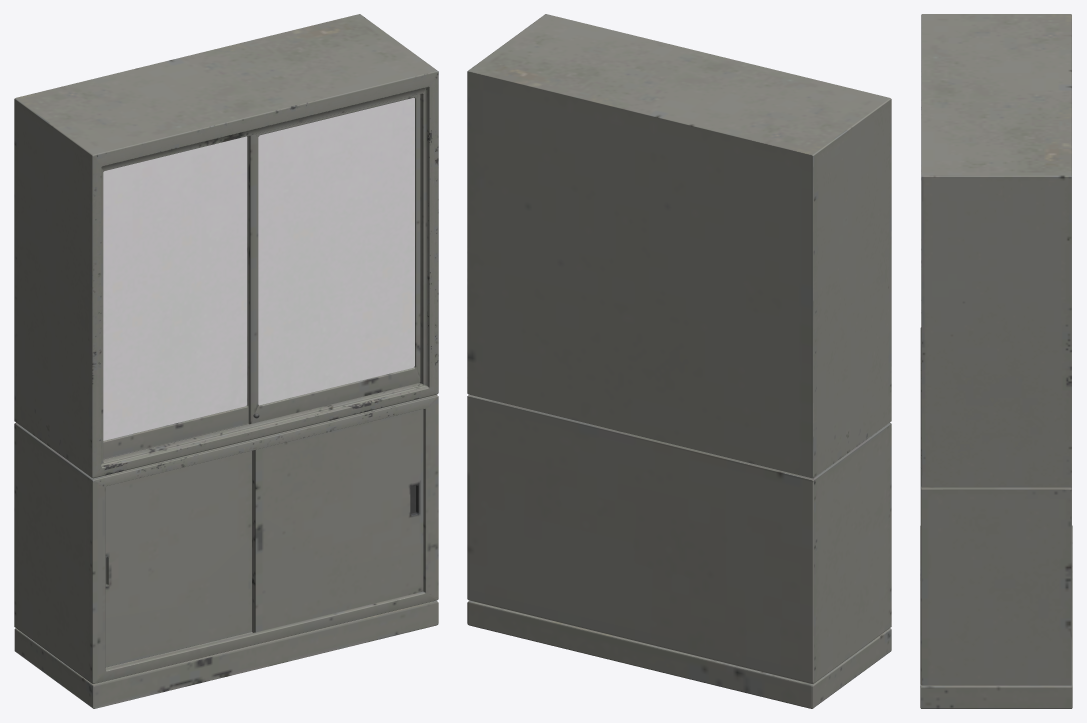
File: 026_OfficeCabinet.fbx
3 views of the same model, side by side, from view 1: azimuth 30°, elevation 25°; view 2: azimuth 150°, elevation 25°; view 3: azimuth 270°, elevation 25° (orthographic). The views are drawn at different scales.
Visible parts, largest first — view 1: LOD_1_Group_0_Sub_1__sm30_026_OfficeCabinet01A_A_Mat, LOD_1_Group_0_Sub_2__sm30_026_OfficeCabinet01A_B_Mat; view 2: LOD_1_Group_0_Sub_1__sm30_026_OfficeCabinet01A_A_Mat; view 3: LOD_1_Group_0_Sub_1__sm30_026_OfficeCabinet01A_A_Mat.
Part boxes in pixels (left/top/right/bottom): LOD_1_Group_0_Sub_1__sm30_026_OfficeCabinet01A_A_Mat: left=14, top=14, right=438, bottom=708; LOD_1_Group_0_Sub_2__sm30_026_OfficeCabinet01A_B_Mat: left=103, top=98, right=414, bottom=440; LOD_1_Group_0_Sub_1__sm30_026_OfficeCabinet01A_A_Mat: left=467, top=14, right=891, bottom=708; LOD_1_Group_0_Sub_1__sm30_026_OfficeCabinet01A_A_Mat: left=920, top=14, right=1072, bottom=708.
Size of the model in its own units: 1.48 by 2.26 by 0.5848.
